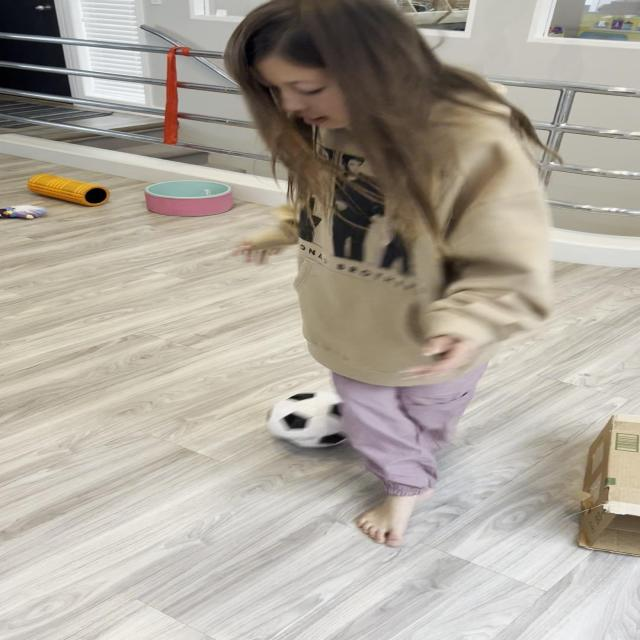Soccer Ball: (266, 392, 362, 447)
